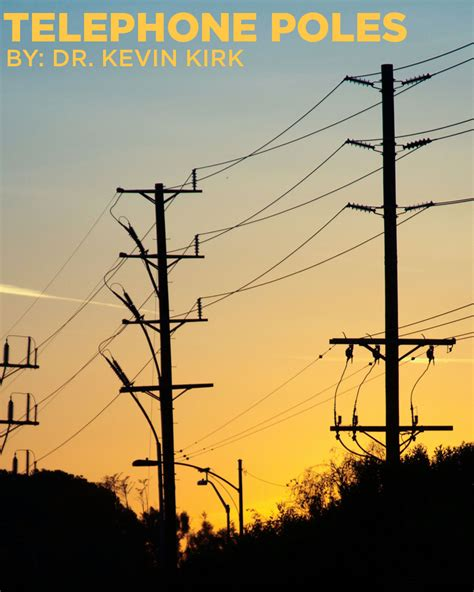pole: (97, 160, 244, 559)
